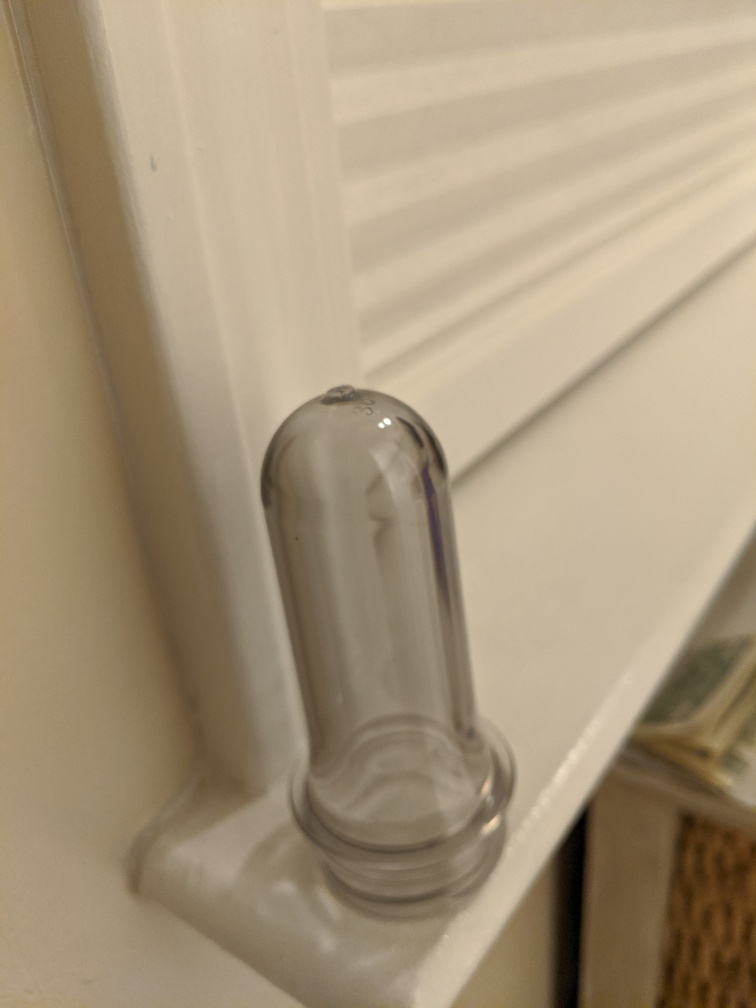preform: (243, 376, 534, 928)
